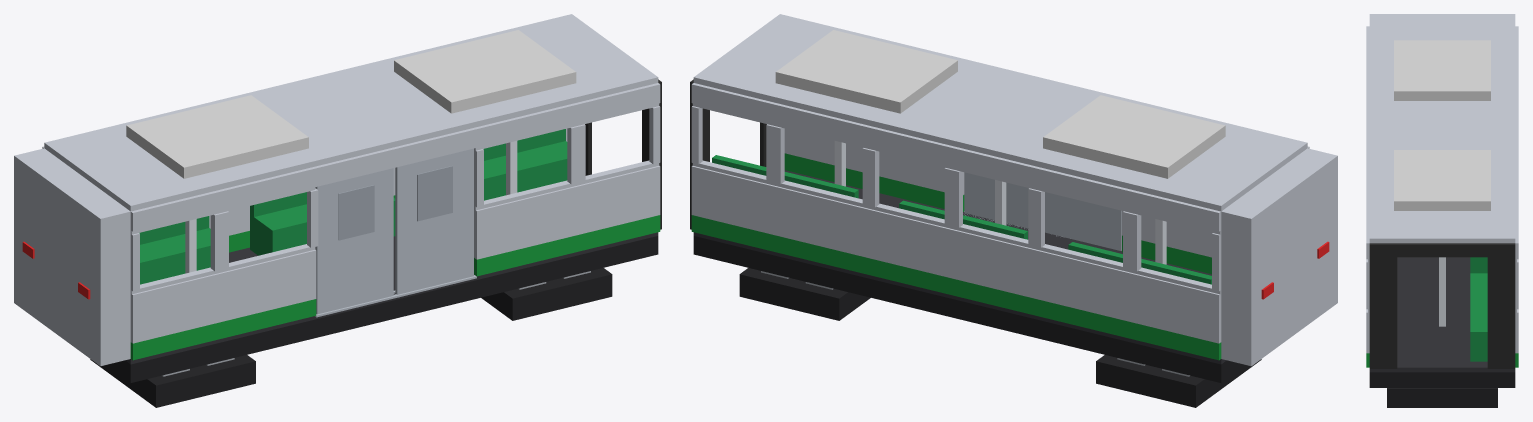
File: metro_wagon_rear_closed_l2.obj
3 renders of one model, left to right at view 1: azimuth 30°, elevation 25°; view 2: azimuth 150°, elevation 25°; view 3: azimuth 270°, elevation 25°, orthographic. The views are drawn at different scales.
Bounding box in the file's own units: 3.16 × 1.26 × 0.88.
